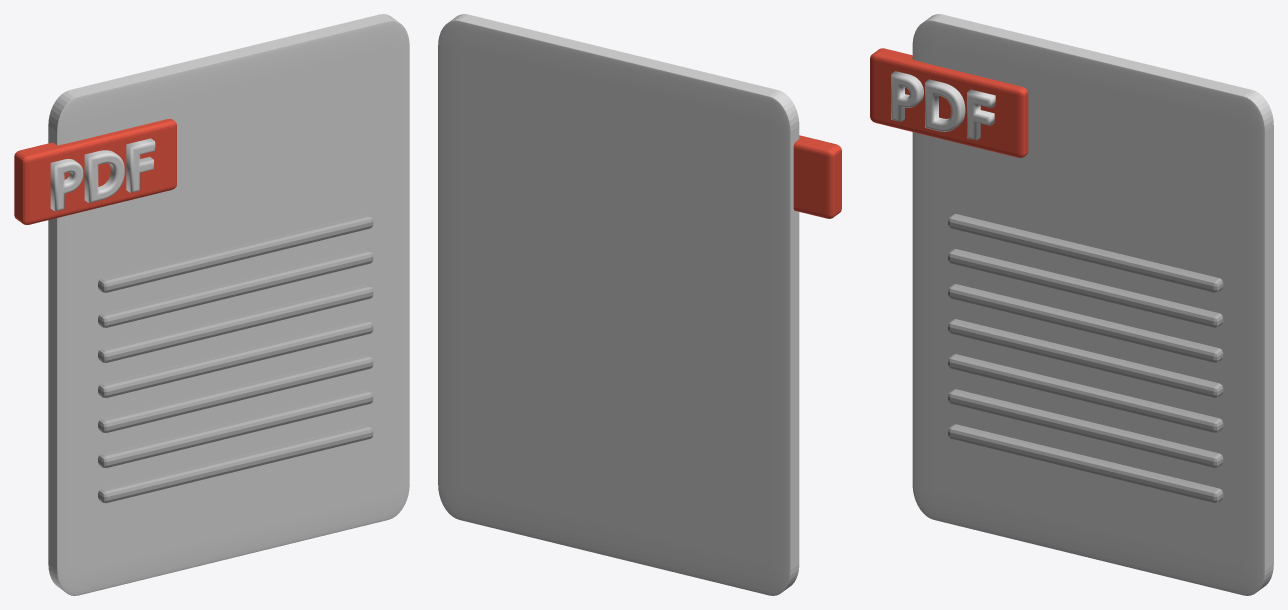
The model's file is pdf3.glb.
The picture shows the model from 3 angles, left to right: view 1: azimuth 30°, elevation 25°; view 2: azimuth 150°, elevation 25°; view 3: azimuth 330°, elevation 25°; orthographic projection.
Visible parts, largest first — view 1: Cube, Lines, textbox, Text; view 2: Cube, textbox; view 3: Cube, Lines, textbox, Text.
Boxes of the visible parts, bbox=[...] form: Cube: bbox=[48, 14, 409, 595]; Lines: bbox=[98, 214, 373, 503]; textbox: bbox=[14, 119, 176, 224]; Text: bbox=[50, 138, 155, 211]; Cube: bbox=[438, 14, 799, 595]; textbox: bbox=[793, 135, 841, 218]; Cube: bbox=[912, 14, 1273, 595]; Lines: bbox=[948, 214, 1223, 502]; textbox: bbox=[870, 48, 1028, 157]; Text: bbox=[891, 71, 995, 140].
Size of the model in its own units: 2.88 by 3.51 by 0.2549.
